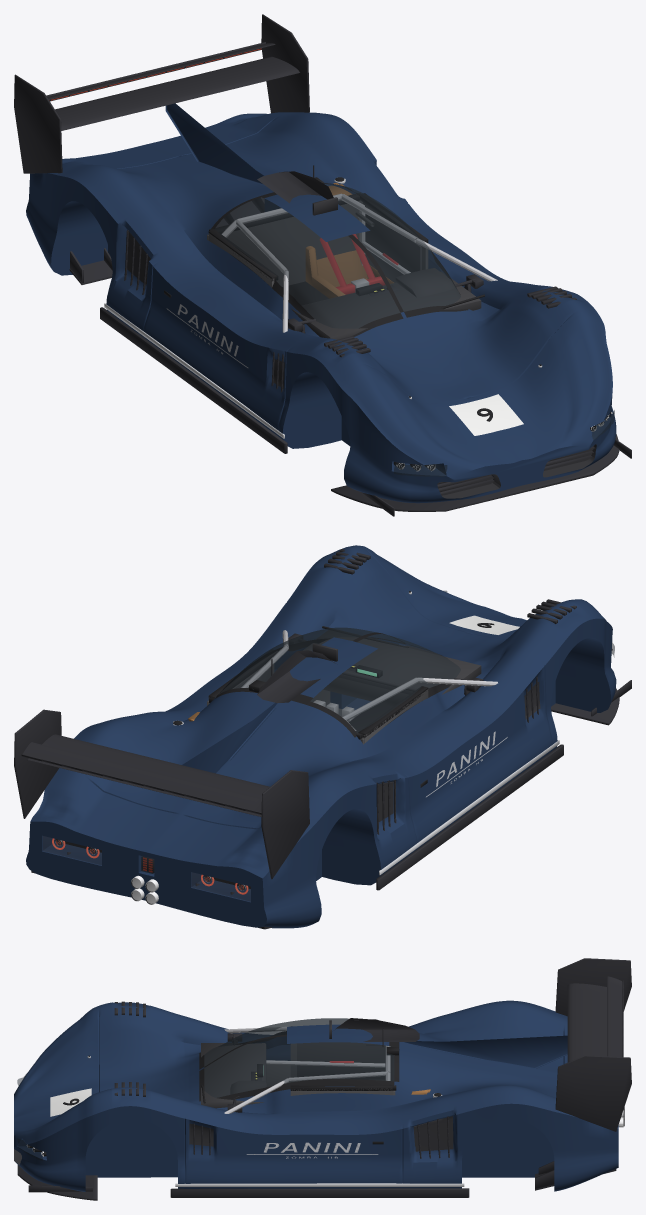
File: panini_zomba.glb
The picture shows the model from 3 angles, top to bottom: view 1: azimuth 30°, elevation 25°; view 2: azimuth 150°, elevation 25°; view 3: azimuth 270°, elevation 25°; orthographic projection. The views are drawn at different scales.
Parts seen in each view (by area): view 1: panini_zomba; view 2: panini_zomba; view 3: panini_zomba.
Part boxes in pixels (<box>): panini_zomba: <box>14,14,631,516</box>; panini_zomba: <box>14,545,631,929</box>; panini_zomba: <box>14,958,631,1200</box>.
Size of the model in its own units: 2.14 by 1.27 by 5.09.
25 materials, 1 textured.
